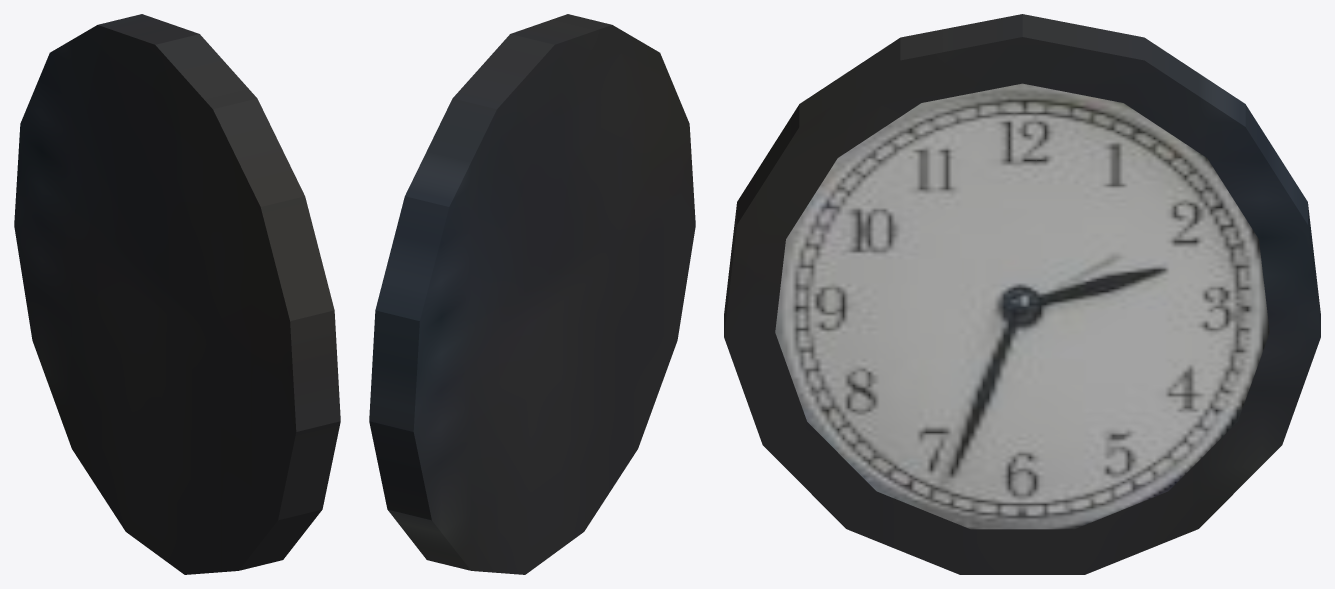
Rendered from Clock.fbx.
3 views of the same model, side by side, from view 1: azimuth 30°, elevation 25°; view 2: azimuth 150°, elevation 25°; view 3: azimuth 270°, elevation 25° (orthographic). The views are drawn at different scales.
Visible parts, largest first — view 1: CLOCK; view 2: CLOCK; view 3: CLOCK.
Part boxes in pixels (<box>): CLOCK: <box>14,14,340,574</box>; CLOCK: <box>369,14,695,574</box>; CLOCK: <box>724,14,1320,574</box>.
Size of the model in its own units: 0.1812 by 1.98 by 1.99.
1 material, 1 textured.
